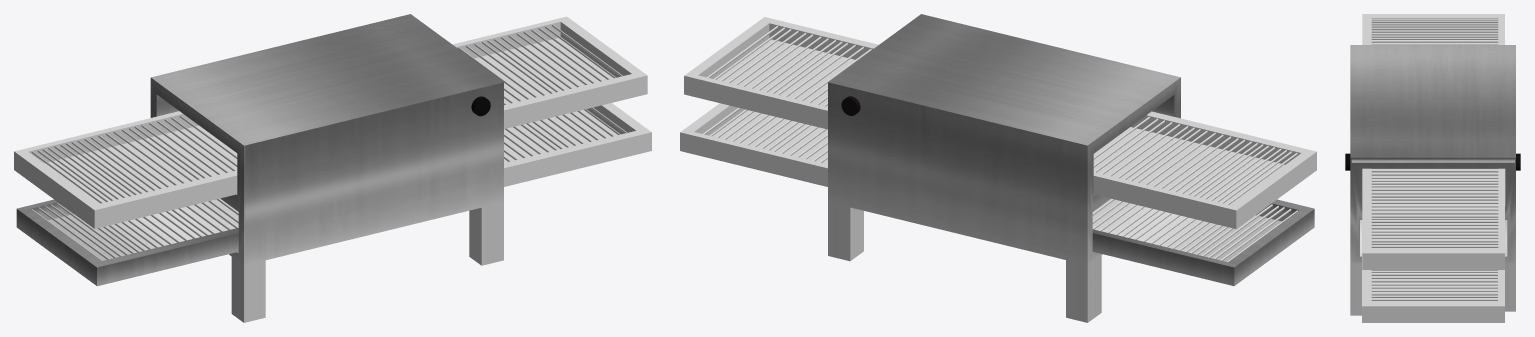
Rendered from oven2.glb.
3 renders of one model, left to right at view 1: azimuth 30°, elevation 25°; view 2: azimuth 150°, elevation 25°; view 3: azimuth 270°, elevation 25°, orthographic. The views are drawn at different scales.
Parts seen in each view (by area): view 1: Cube, Cube.002, Cube.005, Cube.001, Cube.009; view 2: Cube, Cube.002, Cube.005, Cube.001, Cube.009; view 3: Cube, Cube.005, Cube.009, Cube.002, Cylinder.070, Cylinder.072, Cylinder.090, Cylinder.097, Cylinder.098, Cylinder.066, Cylinder.068, Cylinder.069 (+38 smaller).
Boxes of the visible parts, <box> form: Cube: <box>150,14,503,322</box>; Cube.002: <box>14,111,237,228</box>; Cube.005: <box>452,16,647,128</box>; Cube.001: <box>16,198,238,286</box>; Cube.009: <box>504,103,651,186</box>; Cube: <box>828,14,1180,322</box>; Cube.002: <box>1093,111,1316,229</box>; Cube.005: <box>684,17,878,129</box>; Cube.001: <box>1092,198,1314,285</box>; Cube.009: <box>680,103,827,186</box>; Cube: <box>1350,45,1515,315</box>; Cube.005: <box>1362,168,1504,269</box>; Cube.009: <box>1362,220,1504,322</box>; Cube.002: <box>1362,14,1504,44</box>; Cylinder.070: <box>1371,30,1498,32</box>; Cylinder.072: <box>1371,25,1498,27</box>; Cylinder.090: <box>1371,173,1498,175</box>; Cylinder.097: <box>1371,195,1498,197</box>; Cylinder.098: <box>1371,198,1498,200</box>; Cylinder.066: <box>1371,40,1498,42</box>; Cylinder.068: <box>1371,35,1498,37</box>; Cylinder.069: <box>1371,33,1498,35</box>.
Bounding box in the file's own units: 16.16 × 4.93 × 4.96.
Materials: 7 (5 with a texture image).
